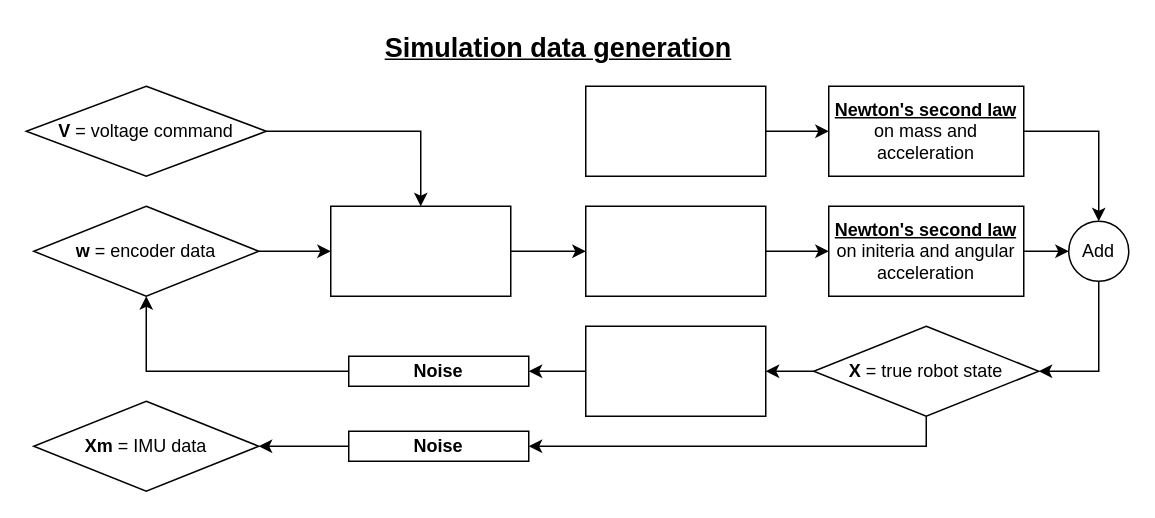
This 1155x518 diagram has some shape labels left out. The centre of each missing label's shape, as x and y in pixels:
Inverse kynematics: [675,370]
Motor current i = f(V,w): [420,250]
Motor torque : T = f(i): [675,250]
Resistance Force: Fr = f(X): [675,130]
